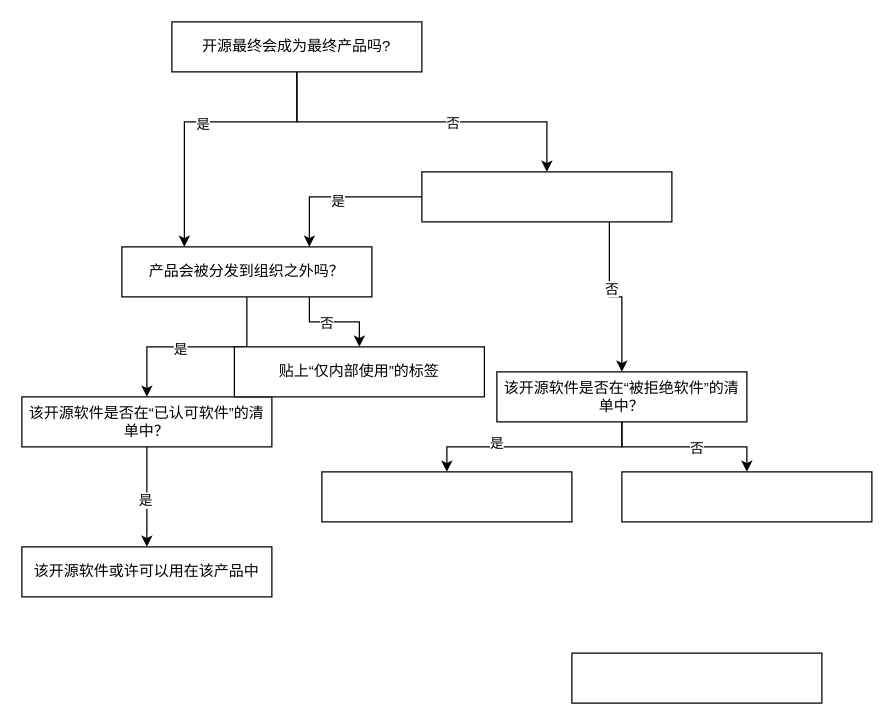
The diagram is 894 pixels wide and 725 high, and some of its shapes have lost their labels. The shapes that lost their labels are listed below. From the top down, each one's centre as x and y in pixels, then its label:
point (546, 196): 由开放源码生成的代码最终会出现在最终产品中吗?
point (446, 496): 该开源软件或许不能用在该产品中
point (746, 496): 请联系法规部门获得批准
